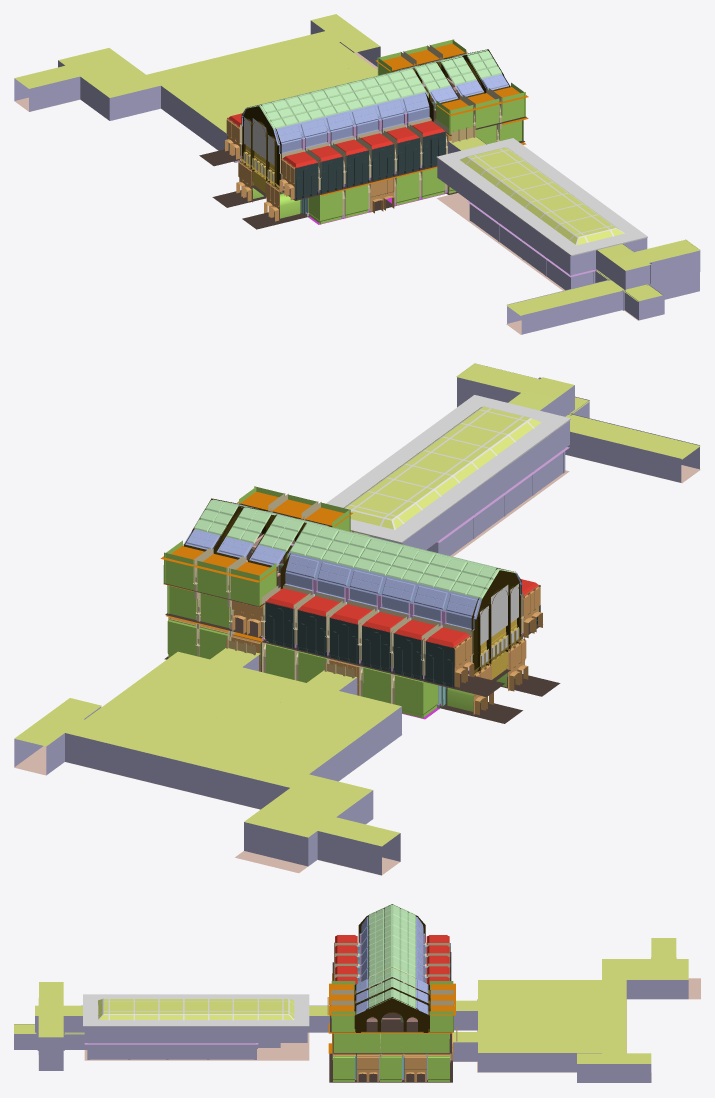
File: Archi_Museum_MESH - copy.fbx
3 renders of one model, top to bottom at view 1: azimuth 30°, elevation 25°; view 2: azimuth 150°, elevation 25°; view 3: azimuth 270°, elevation 25°, orthographic. The views are drawn at different scales.
Visible parts, largest first — view 1: Archi_Annexes_Plafond, Archi_Annexes_Murs, Archi_Murs, Archi_Toit_01, Archi_Block_Shadoxs, Archi_Annexes_Plafond_Glass, Archi_Toit_02, Archi_Murs_Glass, Archi_Arches, Archi_Portes_01, Archi_Toit_Glass, Archi_Murs_Fenetres (+7 smaller); view 2: Archi_Annexes_Plafond, Archi_Annexes_Murs, Archi_Murs, Archi_Toit_01, Archi_Block_Shadoxs, Archi_Annexes_Plafond_Glass, Archi_Arches, Archi_Murs_Glass, Archi_Toit_02, Archi_Portes_01, Archi_Toit_Glass, Archi_Murs_Fenetres (+7 smaller); view 3: Archi_Annexes_Plafond, Archi_Annexes_Murs, Archi_Murs, Archi_Toit_01, Archi_Block_Shadoxs, Archi_Annexes_Plafond_Glass, Archi_Plafond_01, Archi_Centre, Archi_Sol, Archi_Annexes_Sol, Archi_Plafond_02, Archi_Portes_01 (+5 smaller).
Part boxes in pixels (left/top/right/bottom): Archi_Annexes_Plafond: left=14, top=14, right=700, bottom=315; Archi_Annexes_Murs: left=14, top=20, right=700, bottom=334; Archi_Murs: left=246, top=39, right=525, bottom=224; Archi_Toit_01: left=246, top=50, right=501, bottom=129; Archi_Block_Shadoxs: left=436, top=138, right=647, bottom=256; Archi_Annexes_Plafond_Glass: left=460, top=147, right=623, bottom=245; Archi_Toit_02: left=241, top=52, right=509, bottom=154; Archi_Murs_Glass: left=228, top=136, right=445, bottom=197; Archi_Arches: left=240, top=45, right=502, bottom=214; Archi_Portes_01: left=225, top=118, right=451, bottom=221; Archi_Toit_Glass: left=243, top=53, right=507, bottom=142; Archi_Murs_Fenetres: left=227, top=118, right=445, bottom=199; Archi_Annexes_Plafond: left=14, top=363, right=700, bottom=846; Archi_Annexes_Murs: left=14, top=366, right=699, bottom=875; Archi_Murs: left=163, top=486, right=515, bottom=718; Archi_Toit_01: left=194, top=499, right=516, bottom=599; Archi_Block_Shadoxs: left=326, top=395, right=570, bottom=543; Archi_Annexes_Plafond_Glass: left=344, top=406, right=541, bottom=529; Archi_Arches: left=193, top=493, right=523, bottom=704; Archi_Murs_Glass: left=265, top=608, right=537, bottom=684; Archi_Toit_02: left=184, top=503, right=522, bottom=630; Archi_Portes_01: left=168, top=585, right=542, bottom=715; Archi_Toit_Glass: left=187, top=503, right=519, bottom=615; Archi_Murs_Fenetres: left=265, top=585, right=540, bottom=687; Archi_Annexes_Plafond: left=14, top=938, right=688, bottom=1063; Archi_Annexes_Murs: left=14, top=980, right=688, bottom=1082; Archi_Murs: left=331, top=981, right=453, bottom=1081; Archi_Toit_01: left=368, top=904, right=415, bottom=1008; Archi_Block_Shadoxs: left=83, top=994, right=309, bottom=1026; Archi_Annexes_Plafond_Glass: left=98, top=999, right=294, bottom=1019; Archi_Plafond_01: left=335, top=935, right=449, bottom=984; Archi_Centre: left=354, top=904, right=429, bottom=1054; Archi_Sol: left=329, top=952, right=453, bottom=1082; Archi_Annexes_Sol: left=38, top=957, right=700, bottom=1082; Archi_Plafond_02: left=328, top=973, right=455, bottom=1053; Archi_Portes_01: left=333, top=936, right=452, bottom=1081.
Size of the model in its own units: 7116 by 2353 by 16381.
